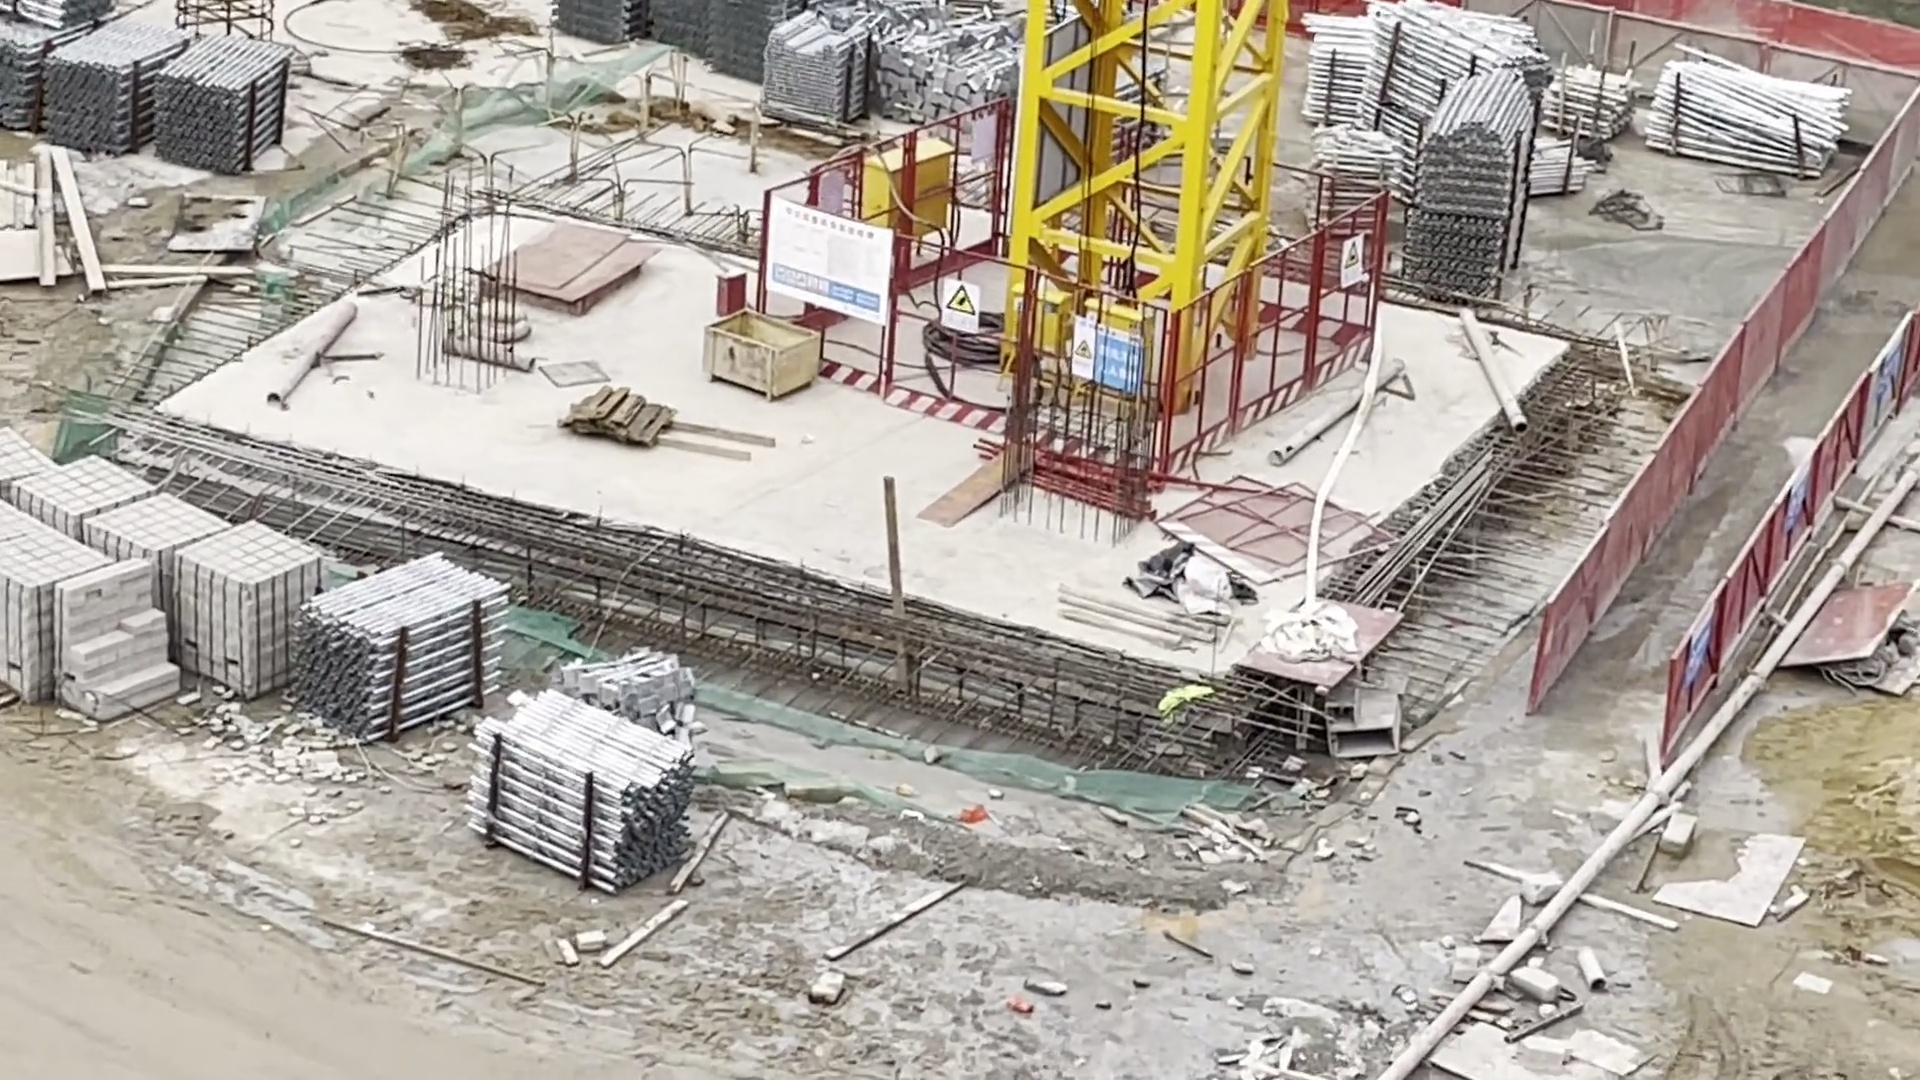brick: (1, 409, 327, 735)
ebox: (990, 270, 1154, 393), (833, 127, 973, 258)
fence: (746, 203, 1175, 459), (1518, 462, 1756, 795), (1650, 301, 1859, 612), (1763, 73, 1920, 415), (1164, 207, 1383, 451), (760, 105, 1000, 258)
hopper: (696, 299, 837, 407)
scaffold: (1302, 3, 1854, 331), (550, 3, 1023, 146), (444, 688, 707, 895), (3, 7, 290, 187), (287, 555, 506, 754)
slogan: (749, 193, 905, 339), (1046, 313, 1154, 405), (931, 273, 994, 339), (1675, 600, 1718, 695), (1325, 227, 1377, 299), (1779, 469, 1817, 550)
